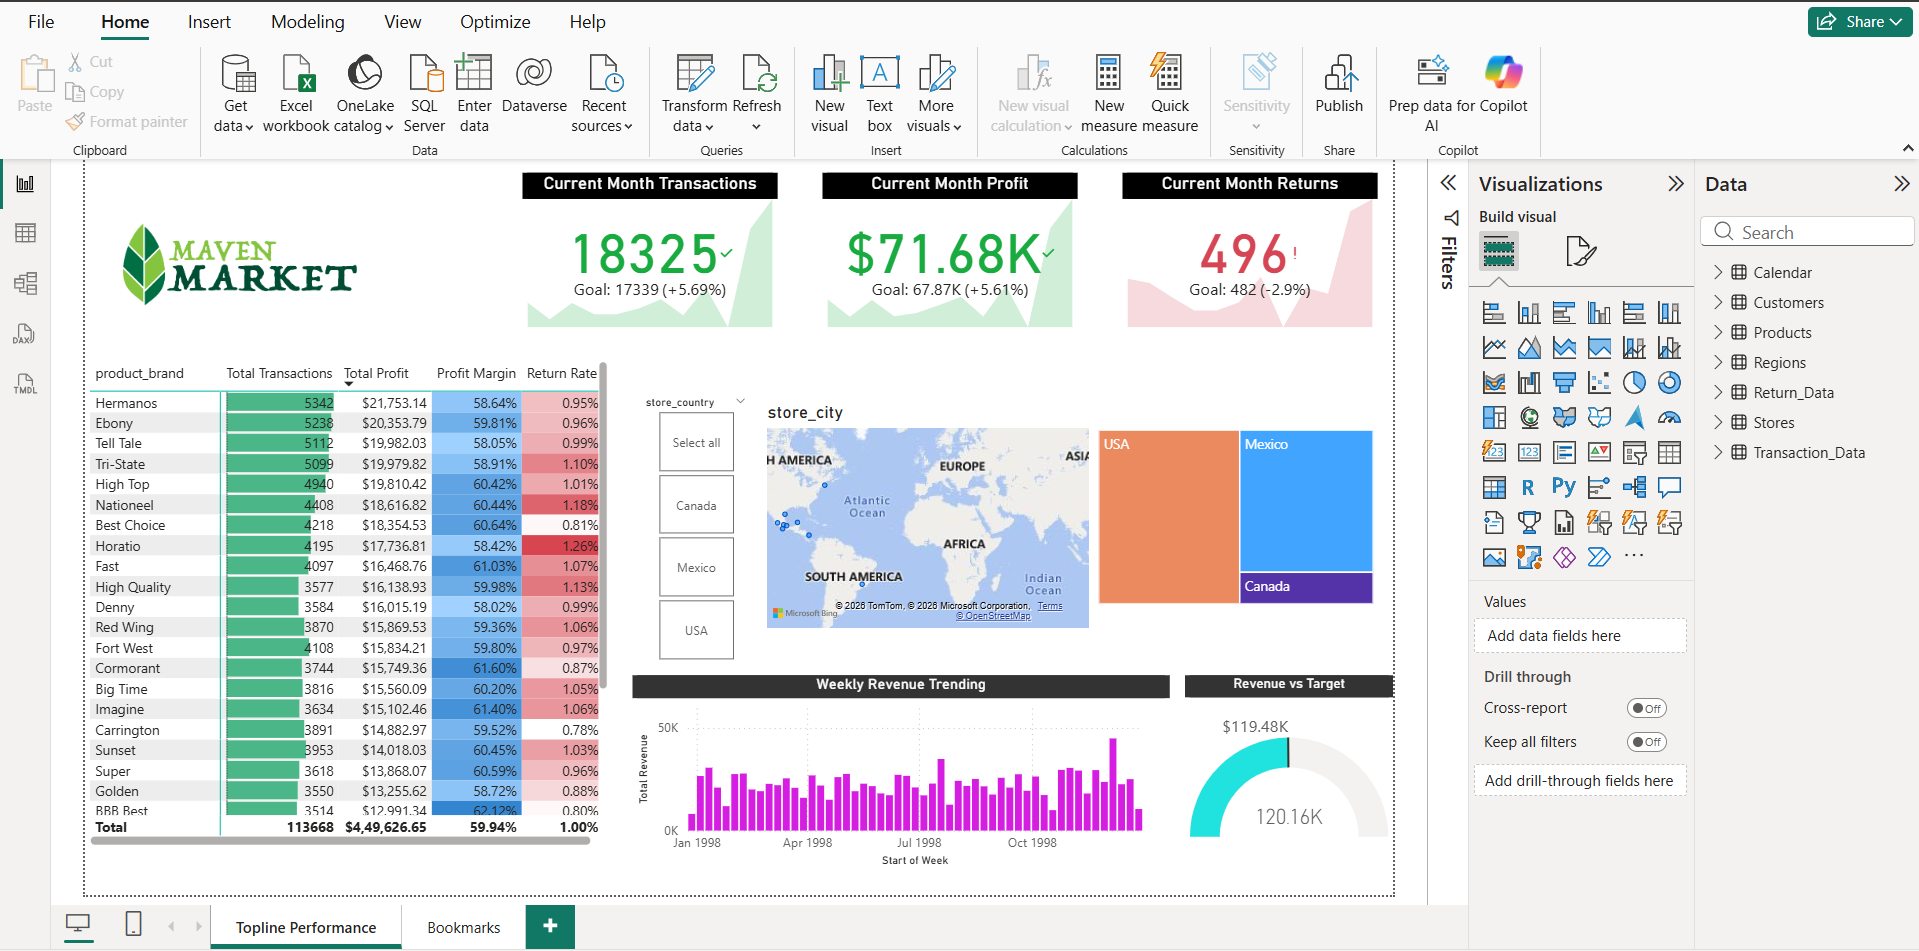

What the dashboard file says about the page in this screenshot:
{"tool":"powerbi","page":{"name":"Topline Performance","canvas":[1280,720],"ordinal":0},"visuals":[{"type":"image","box":[26.1,24.7,249.7,156.4],"z":0},{"type":"pivotTable","fields":{"Rows":["Products.product_brand"],"Values":["Transaction_Data.Total Transactions","Transaction_Data.Total Profit","Transaction_Data.Profit Margin","Return_Data.Return Rate"]},"box":[0,193.2,516,483],"z":1000},{"type":"kpi","title":"Current Month Transactions","fields":{"Indicator":["Transaction_Data.Total Transactions"],"TrendLine":["Calendar.Start of Month Hierarchy.Start of Month"],"Goal":["Transaction_Data.Last Month Transactions"]},"box":[428.1,13.7,249.7,156.4],"z":2000},{"type":"kpi","title":"Current Month Profit","fields":{"TrendLine":["Calendar.Start of Month Hierarchy.Start of Month"],"Indicator":["Transaction_Data.Total Profit"],"Goal":["Transaction_Data.Last Month Profit"]},"box":[721.8,13.7,249.7,156.4],"z":3000},{"type":"kpi","title":"Current Month Returns","fields":{"TrendLine":["Calendar.Start of Month Hierarchy.Start of Month"],"Indicator":["Return_Data.Total Returns"],"Goal":["Return_Data.Last Month Returns"]},"box":[1015.4,13.7,249.7,156.4],"z":4000},{"type":"map","fields":{"Category":["Stores.store_city"]},"box":[662.8,237.4,323.8,226.4],"z":5000},{"type":"slicer","fields":{"Values":["Stores.store_country"]},"box":[535.6,226,123.3,269.9],"z":6000},{"type":"treemap","fields":{"Group":["Stores.store_state","Stores.store_city","Stores.store_country"],"Values":["Transaction_Data.Total Transactions"]},"box":[986.6,260.7,278.6,179.8],"z":7000},{"type":"columnChart","title":"Weekly Revenue Trending","fields":{"Y":["Transaction_Data.Total Revenue"],"Category":["Calendar.Start of Week Hierarchy.Start of Week"]},"box":[535.6,505,525.8,192],"z":8000},{"type":"gauge","title":"Revenue vs Target","fields":{"Y":["Transaction_Data.Total Revenue"],"TargetValue":["Transaction_Data.Revenue Target"]},"box":[1076.1,505,204,171],"z":9000}]}

Visuals, with their boxes on the page's 1280x720 design canvas (x1, y1, x2, y2). These are canvas units, not pixel positions in the 1919x951 screenshot, which may show the page scaled, cropped or inside an application window:
image: box=[26, 25, 276, 181]
pivotTable - Products.product_brand x Transaction_Data.Total Transactions: box=[0, 193, 516, 676]
"Current Month Transactions" kpi: box=[428, 14, 678, 170]
"Current Month Profit" kpi: box=[722, 14, 972, 170]
"Current Month Returns" kpi: box=[1015, 14, 1265, 170]
map - Stores.store_city: box=[663, 237, 987, 464]
slicer - Stores.store_country: box=[536, 226, 659, 496]
treemap - Stores.store_state x Stores.store_city: box=[987, 261, 1265, 440]
"Weekly Revenue Trending" columnChart: box=[536, 505, 1061, 697]
"Revenue vs Target" gauge: box=[1076, 505, 1280, 676]
